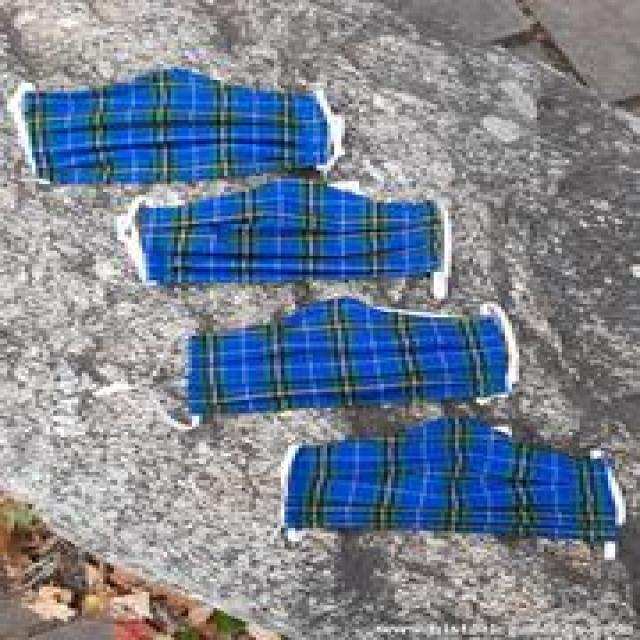face mask: (270, 402, 633, 546), (14, 66, 352, 192), (182, 293, 540, 408), (113, 187, 470, 290)
